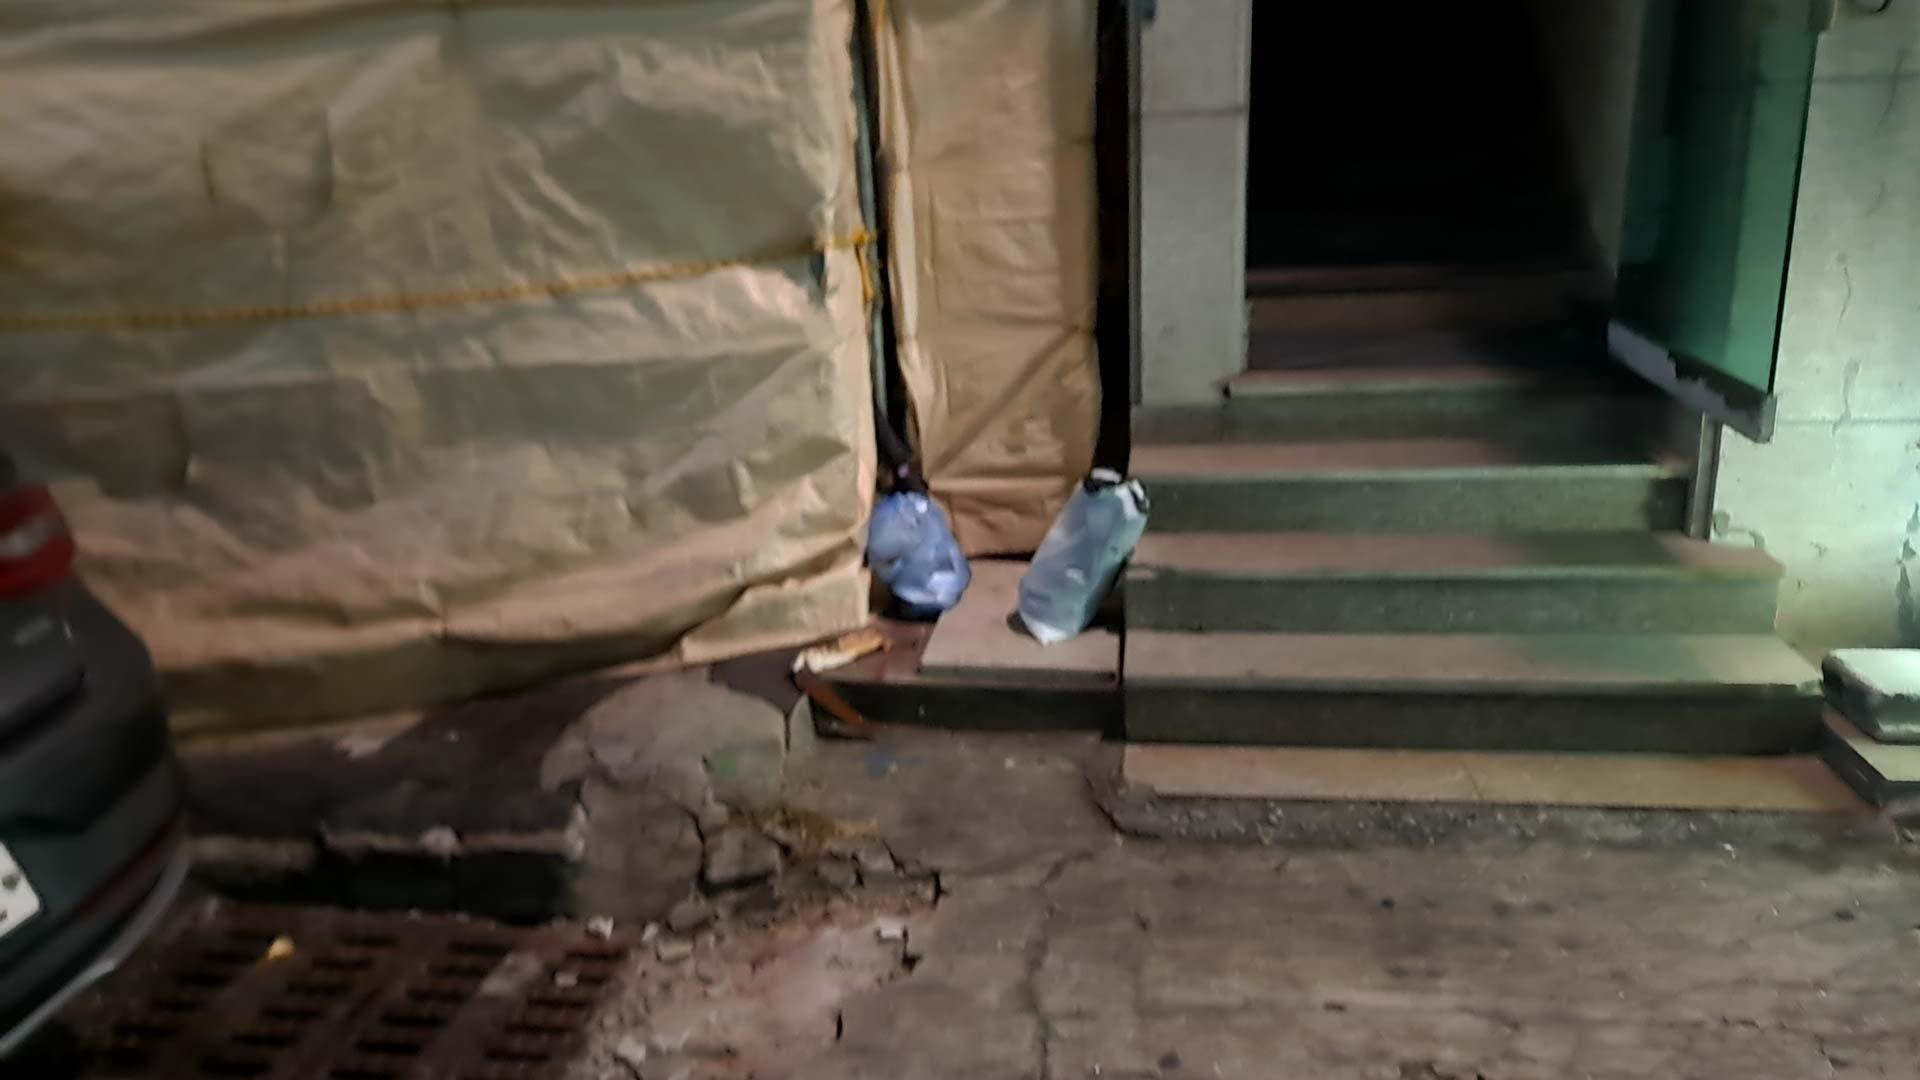white_bag: (1011, 458, 1158, 654), (856, 481, 981, 620)
